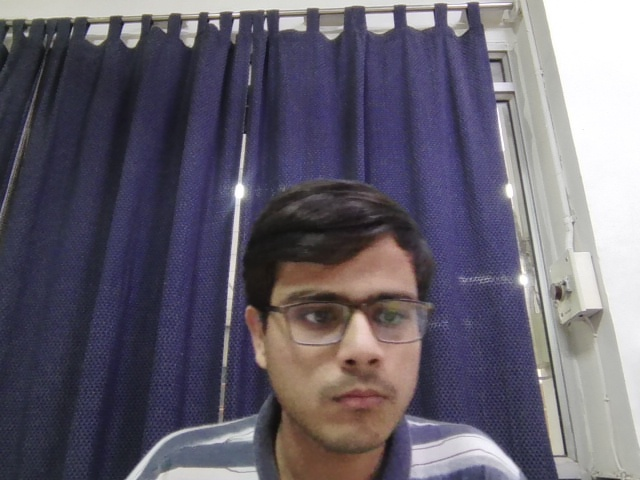face: (244, 177, 437, 454)
